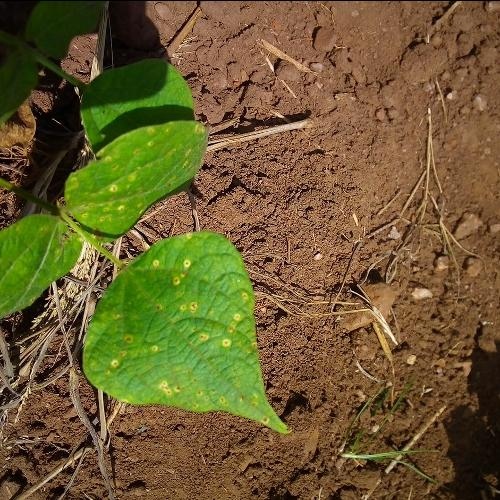hawar: (166, 278, 256, 361), (102, 321, 162, 380), (150, 370, 195, 401)
